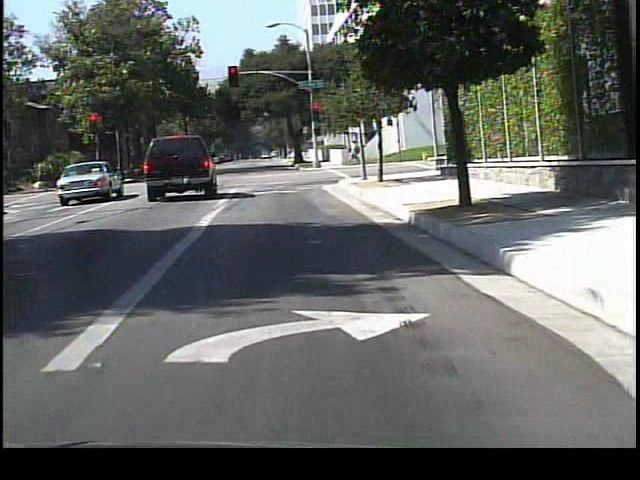person: (344, 140, 362, 171)
